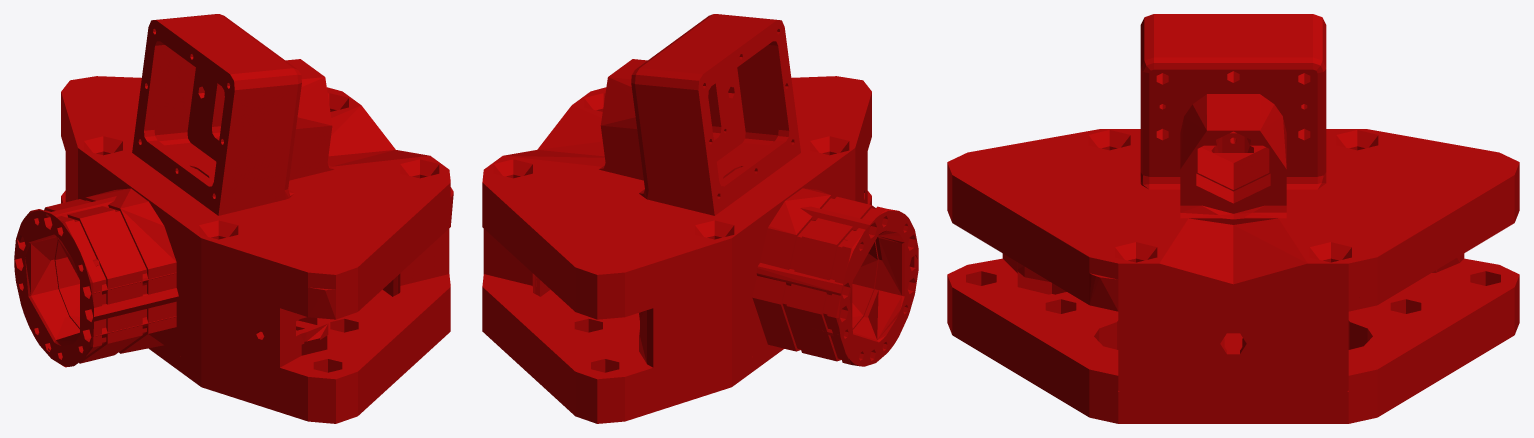
Rendered from arm_link_5.dae.
3 views of the same model, side by side, from view 1: azimuth 30°, elevation 25°; view 2: azimuth 150°, elevation 25°; view 3: azimuth 270°, elevation 25° (orthographic). The views are drawn at different scales.
Parts seen in each view (by area): view 1: Arm_Link_5; view 2: Arm_Link_5; view 3: Arm_Link_5.
Part boxes in pixels (x1,y1,x2,y2): Arm_Link_5: (14,14,453,423); Arm_Link_5: (482,14,918,423); Arm_Link_5: (947,14,1519,423).
Bounding box in the file's own units: 96 × 129 × 75.65.
